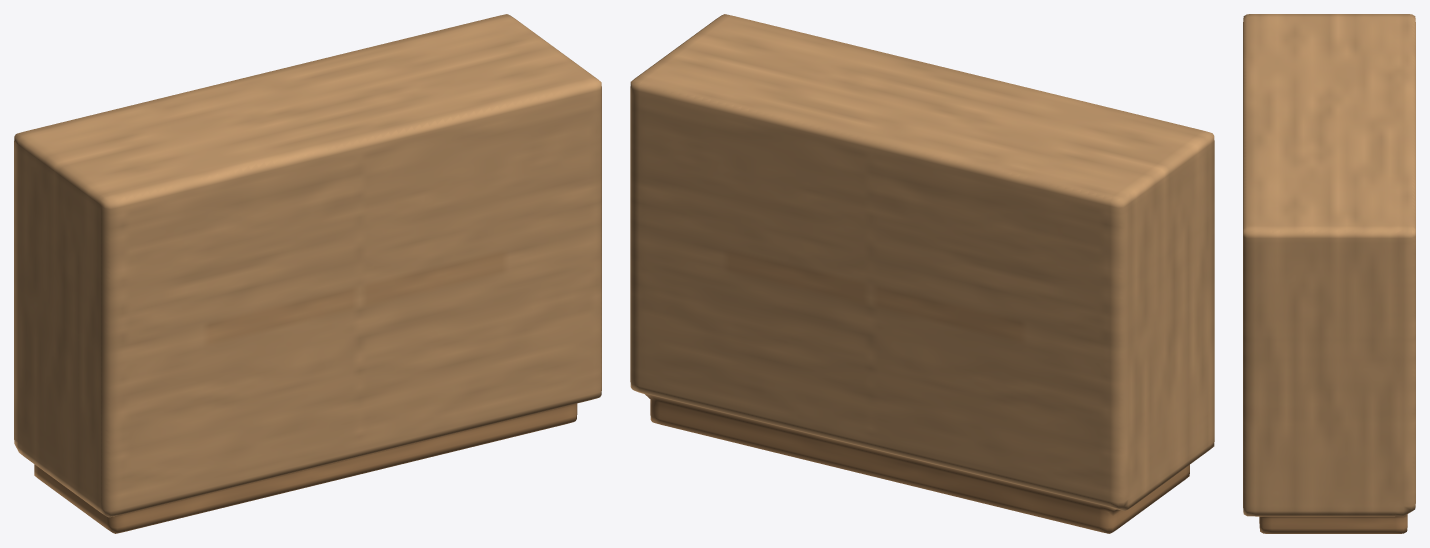
Rendered from stack3.glb.
3 views of the same model, side by side, from view 1: azimuth 30°, elevation 25°; view 2: azimuth 150°, elevation 25°; view 3: azimuth 270°, elevation 25° (orthographic). The views are drawn at different scales.
Bounding box in the file's own units: 1.2 × 0.796 × 0.4005.
Materials: 1 (1 with a texture image).
